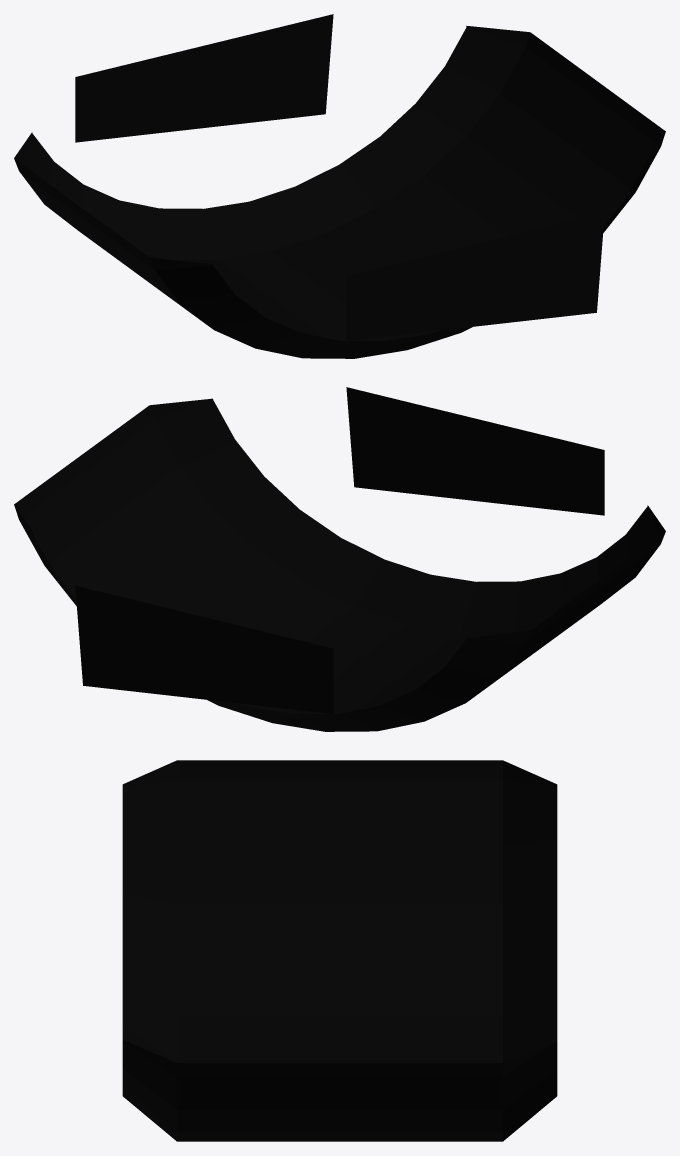
The model's file is PelagicIIExploration_Alpha_112.glb.
3 views of the same model, one above another, from view 1: azimuth 30°, elevation 25°; view 2: azimuth 150°, elevation 25°; view 3: azimuth 270°, elevation 25° (orthographic). The views are drawn at different scales.
Visible parts, largest first — view 1: PelagicIIExploration_Alpha_112; view 2: PelagicIIExploration_Alpha_112; view 3: PelagicIIExploration_Alpha_112.
Boxes of the visible parts, x1=… form: PelagicIIExploration_Alpha_112: x1=14, y1=14, x2=665, y2=358; PelagicIIExploration_Alpha_112: x1=14, y1=387, x2=665, y2=731; PelagicIIExploration_Alpha_112: x1=122, y1=760, x2=557, y2=1141.
Bounding box in the file's own units: 206 × 59.38 × 188.
1 material, 1 textured.
